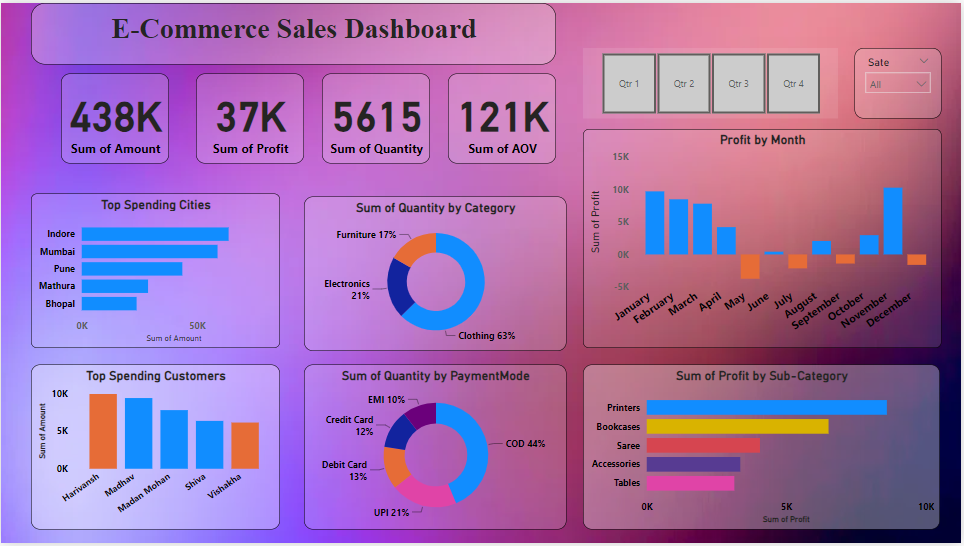

This screenshot's page, from the dashboard's own definition file:
{"tool":"powerbi","page":{"name":"Page 1","canvas":[1280,720],"ordinal":0},"visuals":[{"type":"textbox","box":[40,0,700,82],"z":0},{"type":"columnChart","title":"Profit  by Month","fields":{"Y":["Details.Profit"],"Category":["Orders.Order Date.Variation.Date Hierarchy.Month"]},"box":[776,168,478,292],"z":1000},{"type":"barChart","fields":{"Category":["Details.Sub-Category"],"Y":["Details.Profit"]},"box":[776,482,476,220],"z":2000},{"type":"donutChart","fields":{"Category":["Details.Category"],"Y":["Details.Quantity"]},"box":[404,258,350,206],"z":3000},{"type":"donutChart","fields":{"Category":["Details.PaymentMode"],"Y":["Details.Quantity"]},"box":[404,482,350,220],"z":4000},{"type":"card","fields":{"Values":["Details.Average Order Value"]},"box":[596,94,144,120],"z":5000},{"type":"card","fields":{"Values":["Details.Profit"]},"box":[260,94,144,120],"z":6000},{"type":"card","fields":{"Values":["Details.Amount"]},"box":[80,94,144,120],"z":7000},{"type":"card","fields":{"Values":["Details.Quantity"]},"box":[428,94,144,120],"z":8000},{"type":"barChart","title":"Top Spending Cities","fields":{"Category":["Orders.City"],"Y":["Details.Amount"]},"box":[40,254,332,206],"z":9000},{"type":"columnChart","title":"Top Spending Customers","fields":{"Category":["Orders.Customer Name"],"Y":["Details.Amount"]},"box":[40,482,332,220],"z":10000},{"type":"slicer","fields":{"Values":["Orders.Order Date.Variation.Date Hierarchy.Quarter"]},"box":[776,60,340,94],"z":11000},{"type":"slicer","fields":{"Values":["Orders.Sate"]},"box":[1138,60,116,94],"z":12000}]}

Visuals, with their boxes in screenshot pixels (x1, y1, x2, y2), scaled from the page's 1280x720 canvas onto the 964x546 screenshot:
textbox: box=[30, 0, 557, 62]
"Profit  by Month" columnChart: box=[584, 127, 944, 349]
barChart - Details.Sub-Category x Details.Profit: box=[584, 366, 943, 532]
donutChart - Details.Category x Details.Quantity: box=[304, 196, 568, 352]
donutChart - Details.PaymentMode x Details.Quantity: box=[304, 366, 568, 532]
card - Details.Average Order Value: box=[449, 71, 557, 162]
card - Details.Profit: box=[196, 71, 304, 162]
card - Details.Amount: box=[60, 71, 169, 162]
card - Details.Quantity: box=[322, 71, 431, 162]
"Top Spending Cities" barChart: box=[30, 193, 280, 349]
"Top Spending Customers" columnChart: box=[30, 366, 280, 532]
slicer - Orders.Order Date.Variation.Date Hierarchy.Quarter: box=[584, 46, 840, 117]
slicer - Orders.Sate: box=[857, 46, 944, 117]
